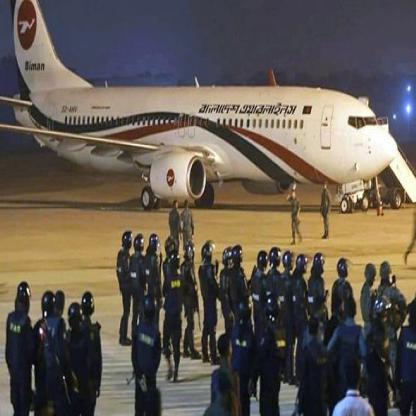CIV_Plane: (6, 0, 399, 226)
